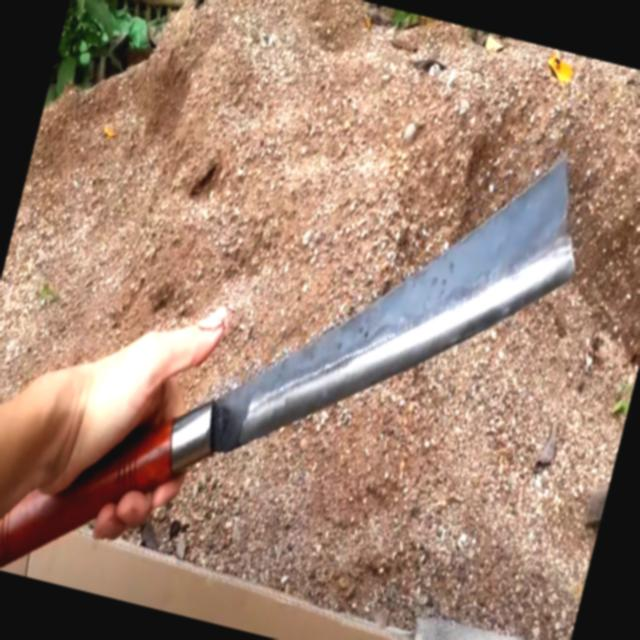eto: (0, 154, 575, 561)
